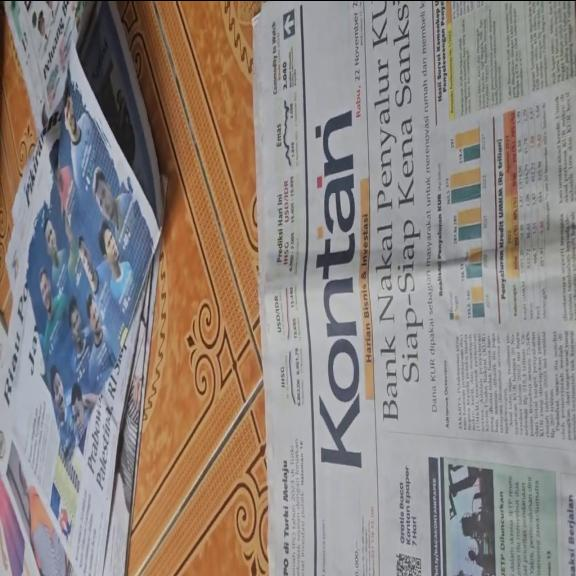Kertas: (262, 9, 574, 573), (5, 26, 160, 562)
